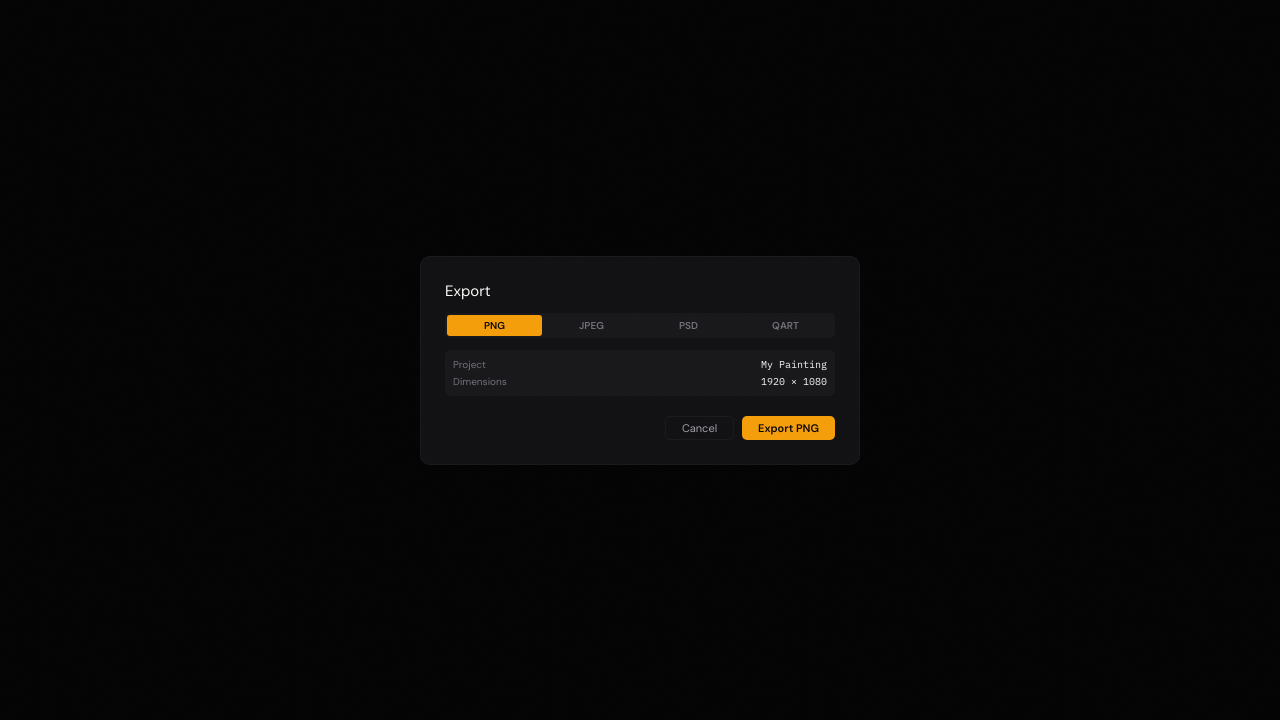
Test case: ExportDialog › switches to JPEG format and shows quality controls
Click the button "JPEG" at (592, 325), box [544,314,639,336]
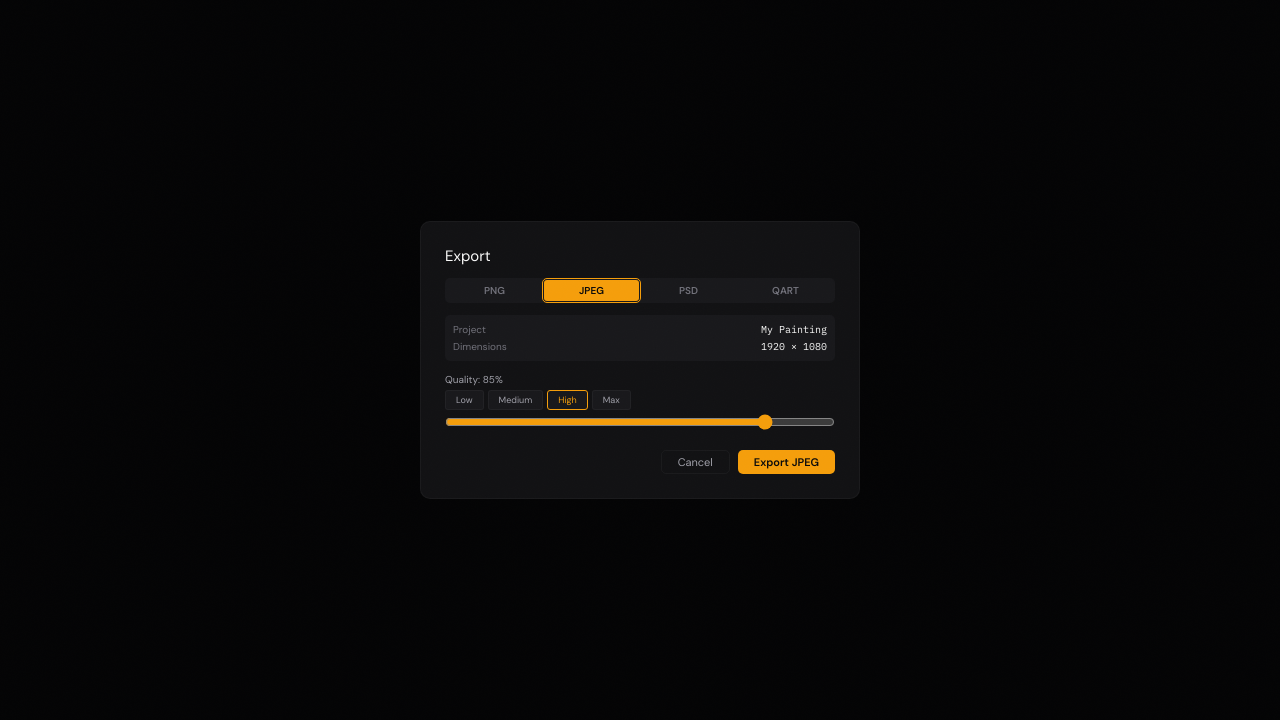
Expected: the slider named "JPEG quality" is shown, [445,414,835,430]
Expected: the button "Low" is shown, [445,390,484,410]
Expected: the button "High" is shown, [547,390,588,410]
